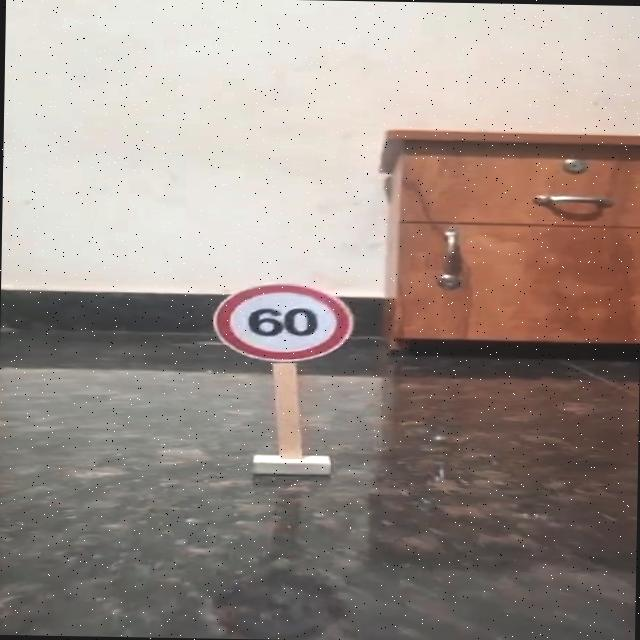Speed60: (208, 279, 358, 365)
